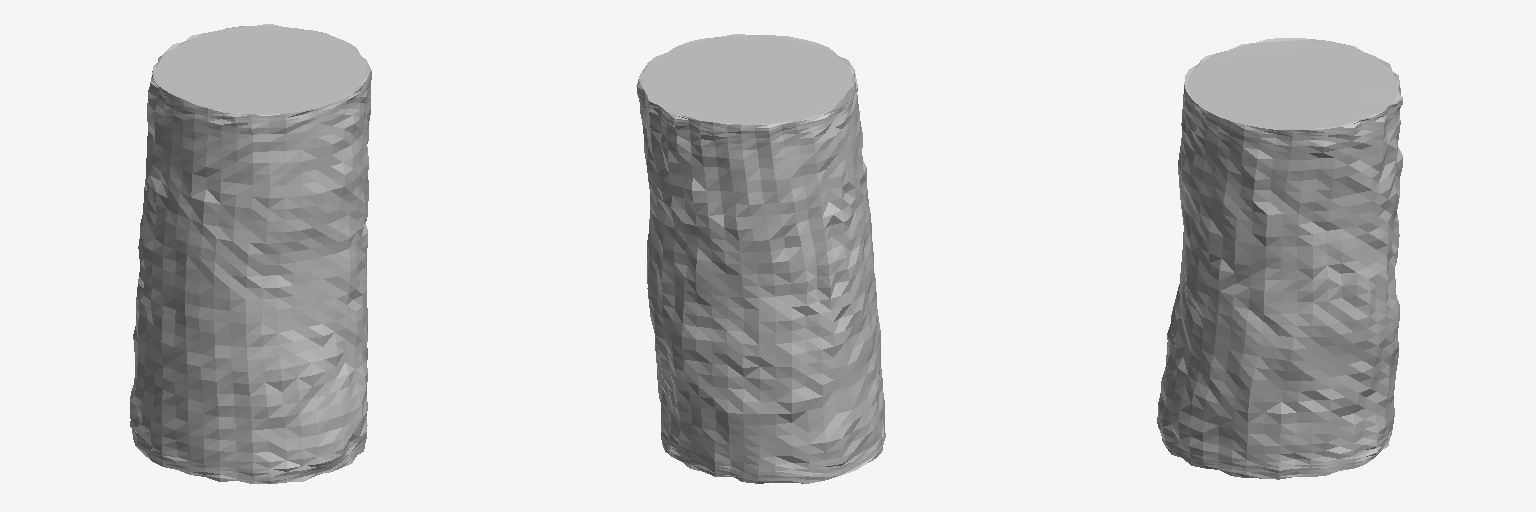
Rendered from logSeat.obj.
3 renders of one model, left to right at view 1: azimuth 30°, elevation 25°; view 2: azimuth 150°, elevation 25°; view 3: azimuth 270°, elevation 25°, orthographic.
Parts seen in each view (by area): view 1: WoodenLog; view 2: WoodenLog; view 3: WoodenLog.
Part boxes in pixels (x1,y1,x2,y2): WoodenLog: (130,24,371,483); WoodenLog: (636,34,885,483); WoodenLog: (1157,38,1402,479).
Bounding box in the file's own units: 0.5649 × 0.9049 × 0.5635.